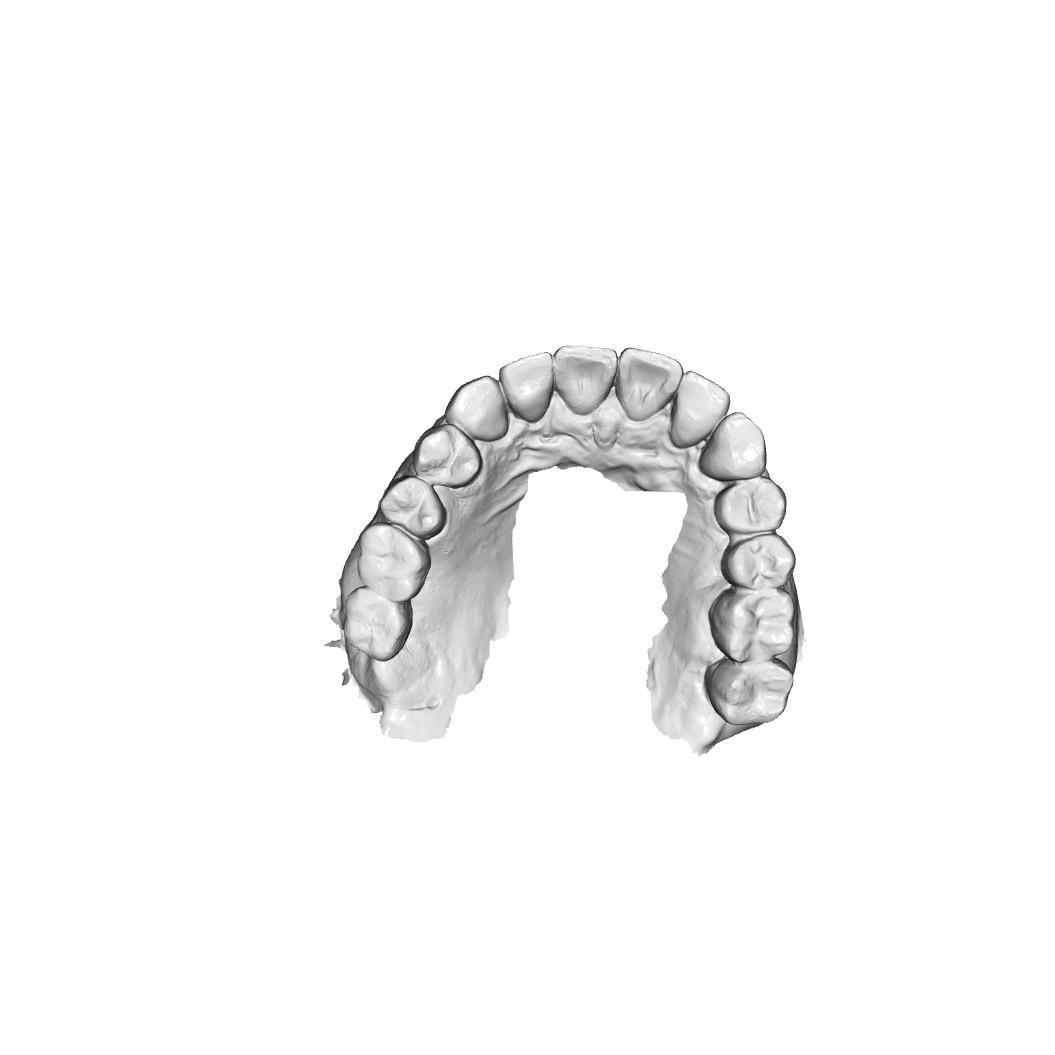canine: (700, 411, 767, 480), (444, 375, 511, 443)
incisor: (662, 370, 731, 451), (550, 341, 623, 416), (611, 346, 683, 422), (498, 348, 556, 424)
molar: (707, 586, 802, 664), (354, 521, 430, 604), (705, 659, 796, 728), (341, 587, 415, 664)
premolar: (413, 420, 484, 491), (712, 475, 788, 537), (379, 475, 446, 539), (721, 533, 796, 590)
